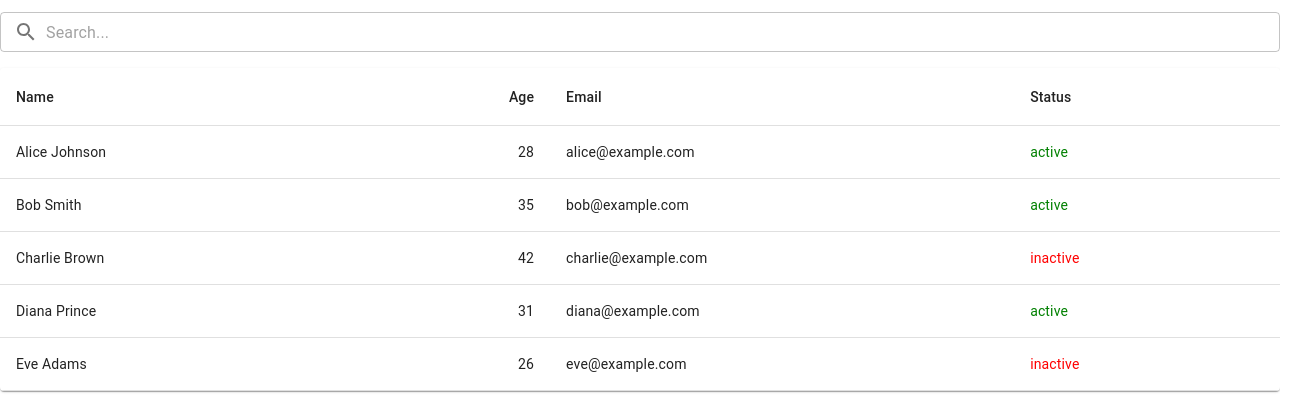
Test: ModernTable Component › Search Functionality (Requirement 43.8) › should filter data by search term
Type "Alice" into the field with placeholder "Search..." at (663, 32), box [46, 12, 1280, 52]
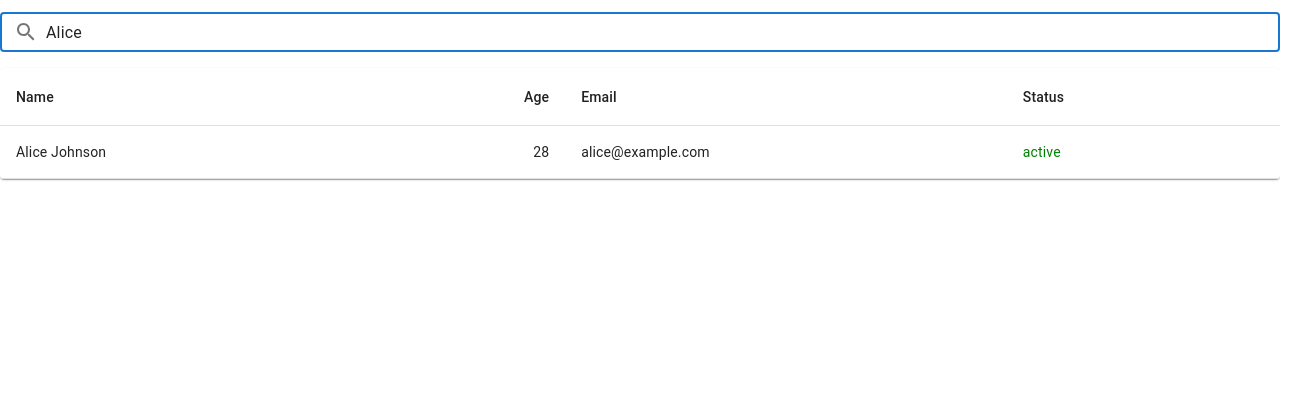
Expected: the text "Alice Johnson" is shown, [0, 126, 336, 179]
Expected: the text "Bob Smith" is gone
